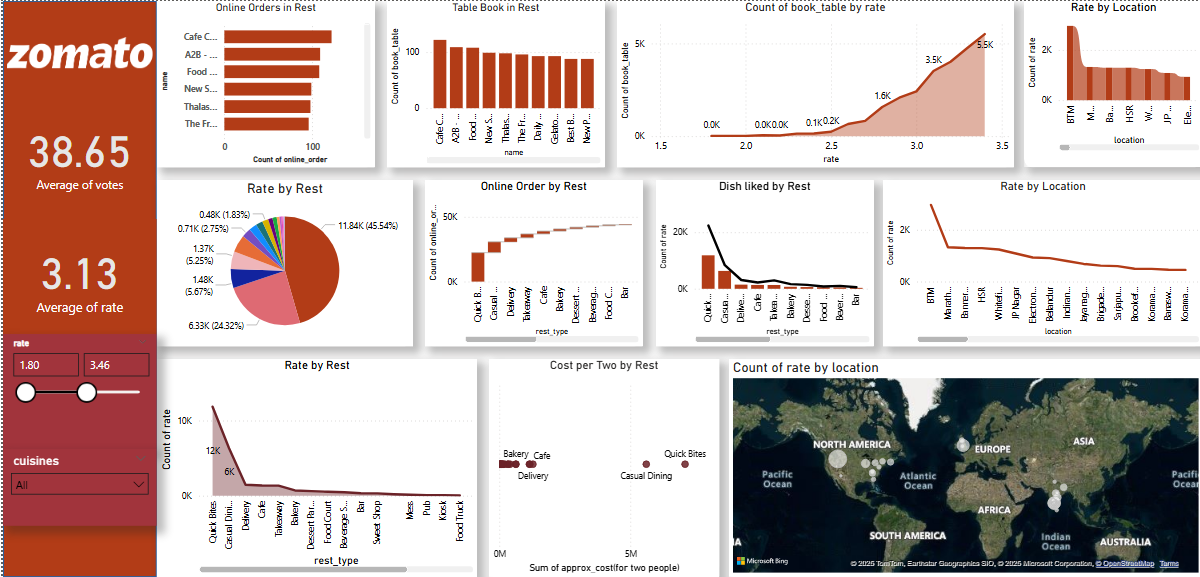

The dashboard page shown, as its layout file describes it:
{"tool":"powerbi","page":{"name":"Page 1","canvas":[1500,720],"ordinal":0},"visuals":[{"type":"shape","box":[0,0,192,720],"z":0},{"type":"shape","box":[192,0,272,208],"z":1000},{"type":"shape","box":[480,0,272,208],"z":2000},{"type":"shape","box":[768,0,496,208],"z":3000},{"type":"shape","box":[1276,0,224,208],"z":4000},{"type":"shape","box":[192,224,320,208],"z":5000},{"type":"shape","box":[528,224,272,208],"z":6000},{"type":"shape","box":[816,224,272,208],"z":7000},{"type":"shape","box":[1100,224,400,208],"z":8000},{"type":"shape","box":[192,448,400,272],"z":9000},{"type":"shape","box":[608,448,288,272],"z":10000},{"type":"shape","box":[908,448,592,272],"z":11000},{"type":"barChart","title":"Online Orders in Rest","fields":{"Category":["zomato.name"],"Y":["CountNonNull(zomato.online_order)"]},"box":[192,0,272,208],"z":12000},{"type":"columnChart","title":"Table Book in Rest","fields":{"Y":["CountNonNull(zomato.book_table)"],"Category":["zomato.name"]},"box":[480,0,272,208],"z":13000},{"type":"lineChart","fields":{"Category":["zomato.rate"],"Y":["CountNonNull(zomato.book_table)"]},"box":[768,0,496,208],"z":14000},{"type":"map","fields":{"Category":["zomato.location"],"Size":["CountNonNull(zomato.rate)"]},"box":[908,448,592,272],"z":15000},{"type":"lineChart","title":"Rate by Location","fields":{"Category":["zomato.location"],"Y":["CountNonNull(zomato.rate)"]},"box":[1100,224,400,208],"z":16000},{"type":"pieChart","title":"Rate by Rest","fields":{"Category":["zomato.rest_type"],"Y":["CountNonNull(zomato.rate)"]},"box":[192,224,320,208],"z":17000},{"type":"stackedAreaChart","title":"Rate by Rest","fields":{"Y":["CountNonNull(zomato.rate)"],"Category":["zomato.rest_type"]},"box":[192,448,400,272],"z":18000},{"type":"waterfallChart","title":"Online Order by Rest","fields":{"Category":["zomato.rest_type"],"Y":["CountNonNull(zomato.online_order)"]},"box":[528,224,272,208],"z":19000},{"type":"lineStackedColumnComboChart","title":"Dish liked by Rest","fields":{"Category":["zomato.rest_type"],"Y":["CountNonNull(zomato.rate)"],"Y2":["CountNonNull(zomato.dish_liked)"]},"box":[816,224,272,208],"z":20000},{"type":"scatterChart","title":"Cost per Two by Rest","fields":{"Category":["zomato.rest_type"],"X":["Sum(zomato.approx_cost(for two people))"]},"box":[608,448,288,272],"z":21000},{"type":"ribbonChart","title":"Rate by Location","fields":{"Category":["zomato.location"],"Y":["CountNonNull(zomato.rate)"]},"box":[1276,0,224,192],"z":22000},{"type":"image","box":[0,0,192,128],"z":22001},{"type":"card","fields":{"Values":["Avg(zomato.votes)"]},"box":[0,128,192,128],"z":22002},{"type":"card","fields":{"Values":["Avg(zomato.rate)"]},"box":[0,272,192,144],"z":22003},{"type":"slicer","fields":{"Values":["zomato.rate"]},"box":[0,416,192,144],"z":22004},{"type":"slicer","fields":{"Values":["zomato.cuisines"]},"box":[0,560,192,96],"z":22005}]}

Visuals, with their boxes in screenshot pixels (x1, y1, x2, y2), scaled from the page's 1500x720 canvas onto the 1200x577 screenshot:
shape: rect(0, 0, 154, 576)
shape: rect(154, 0, 371, 167)
shape: rect(384, 0, 602, 167)
shape: rect(614, 0, 1011, 167)
shape: rect(1021, 0, 1199, 167)
shape: rect(154, 180, 410, 346)
shape: rect(422, 180, 640, 346)
shape: rect(653, 180, 870, 346)
shape: rect(880, 180, 1199, 346)
shape: rect(154, 359, 474, 576)
shape: rect(486, 359, 717, 576)
shape: rect(726, 359, 1199, 576)
"Online Orders in Rest" barChart: rect(154, 0, 371, 167)
"Table Book in Rest" columnChart: rect(384, 0, 602, 167)
lineChart - zomato.rate x CountNonNull(zomato.book_table): rect(614, 0, 1011, 167)
map - zomato.location x CountNonNull(zomato.rate): rect(726, 359, 1199, 576)
"Rate by Location" lineChart: rect(880, 180, 1199, 346)
"Rate by Rest" pieChart: rect(154, 180, 410, 346)
"Rate by Rest" stackedAreaChart: rect(154, 359, 474, 576)
"Online Order by Rest" waterfallChart: rect(422, 180, 640, 346)
"Dish liked by Rest" lineStackedColumnComboChart: rect(653, 180, 870, 346)
"Cost per Two by Rest" scatterChart: rect(486, 359, 717, 576)
"Rate by Location" ribbonChart: rect(1021, 0, 1199, 154)
image: rect(0, 0, 154, 103)
card - Avg(zomato.votes): rect(0, 103, 154, 205)
card - Avg(zomato.rate): rect(0, 218, 154, 333)
slicer - zomato.rate: rect(0, 333, 154, 449)
slicer - zomato.cuisines: rect(0, 449, 154, 526)
